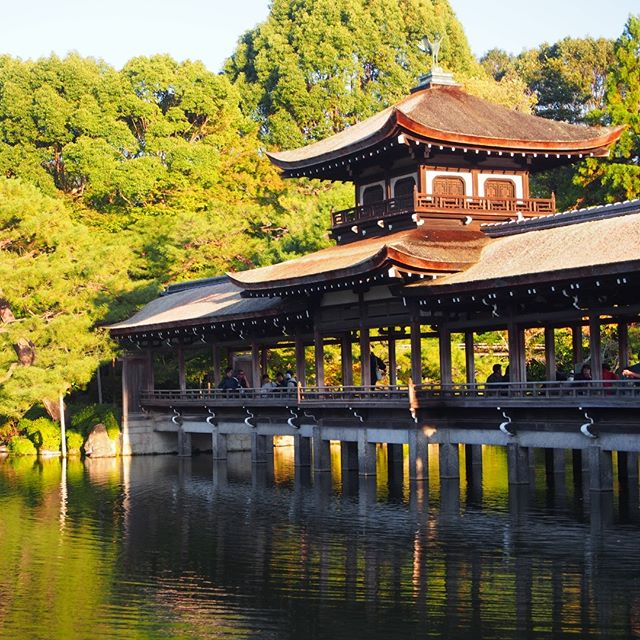bridge: (118, 314, 640, 504)
river: (2, 462, 640, 640)
tree: (223, 1, 491, 125), (516, 34, 640, 130)
vegetation: (1, 22, 318, 400)
